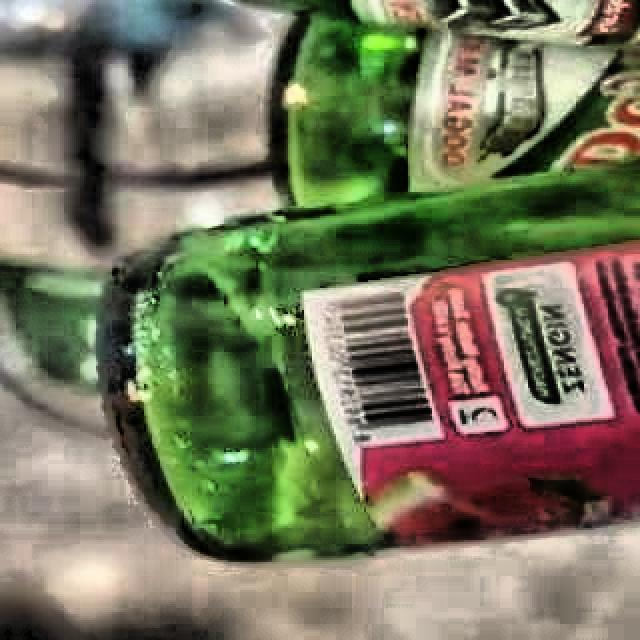glass: (99, 0, 640, 561)
